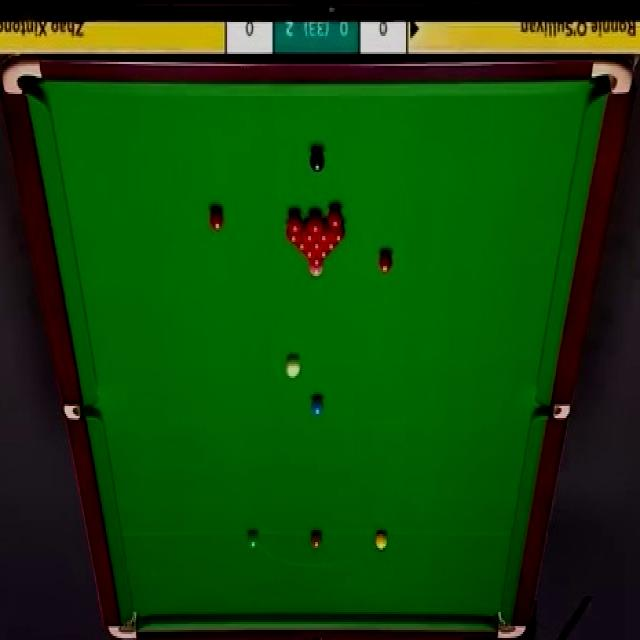black-ball: (308, 146, 326, 172)
blue-ball: (310, 394, 325, 418)
brown-ball: (310, 530, 323, 550)
green-ball: (247, 530, 260, 551)
pink-ball: (308, 264, 324, 279)
red-ball: (378, 247, 396, 275), (207, 210, 225, 232), (286, 212, 303, 234), (309, 212, 323, 234), (328, 208, 343, 228), (302, 222, 316, 242), (330, 227, 346, 244), (286, 226, 302, 242), (317, 225, 330, 242), (324, 241, 338, 252), (301, 250, 316, 259), (308, 242, 324, 250), (294, 241, 308, 250), (316, 251, 331, 259), (309, 259, 324, 267)
white-ball: (284, 353, 302, 381)
yellow-ball: (375, 530, 387, 550)
